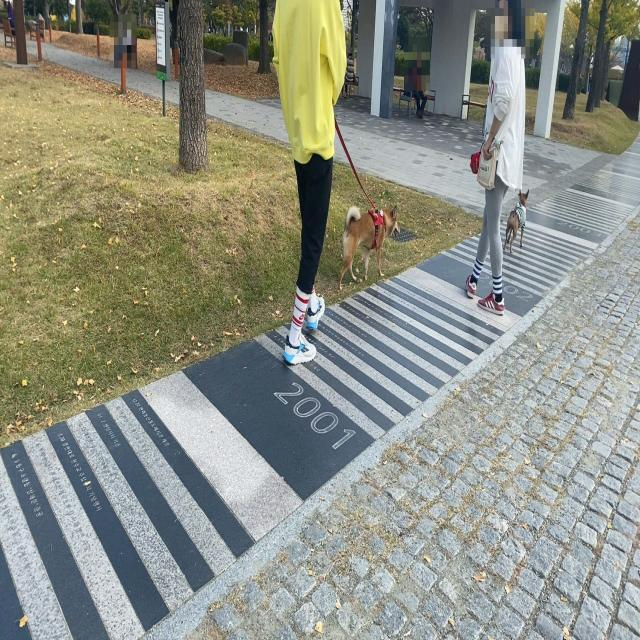Leashed_Dog: (318, 108, 401, 293), (497, 141, 529, 254)
